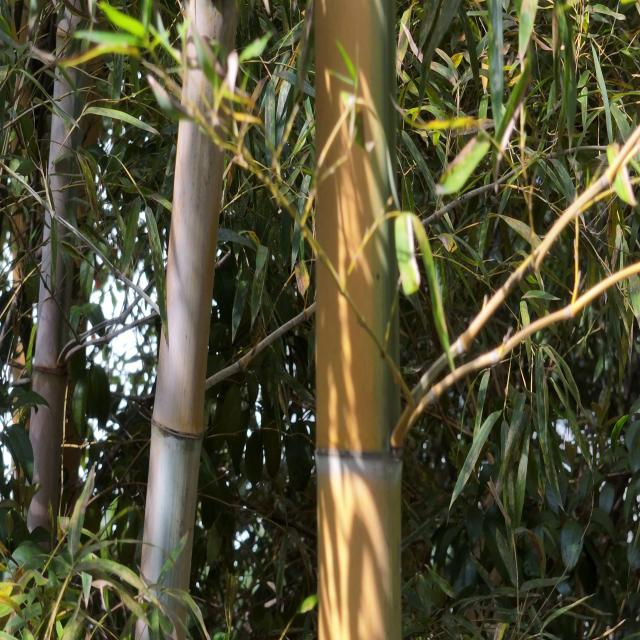Bamboo-shoots: (315, 0, 400, 640)
